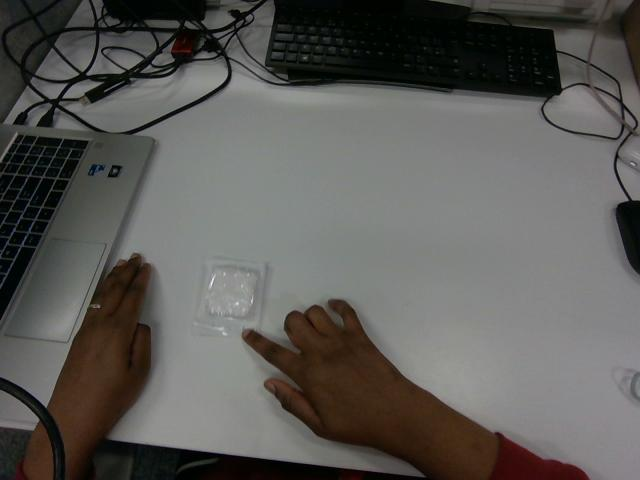gauze: (193, 257, 265, 335)
